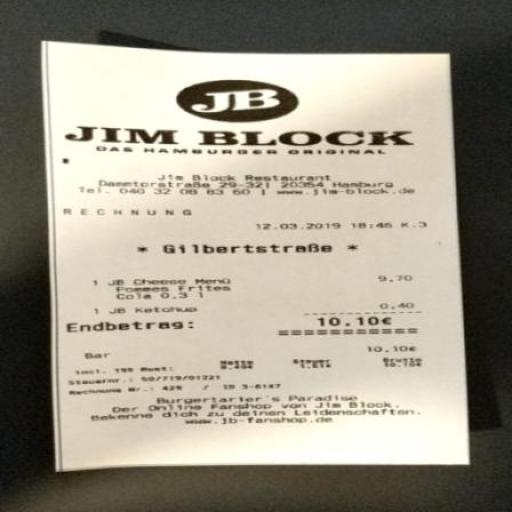paper: (18, 31, 512, 512)
